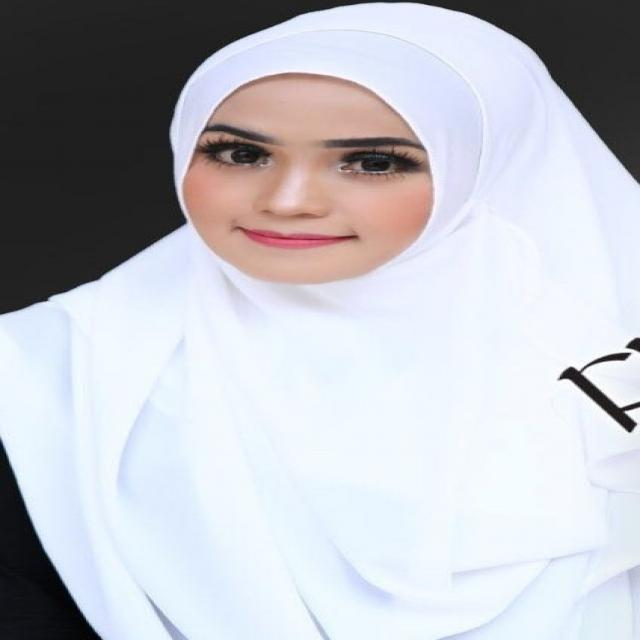head: (165, 14, 485, 285)
